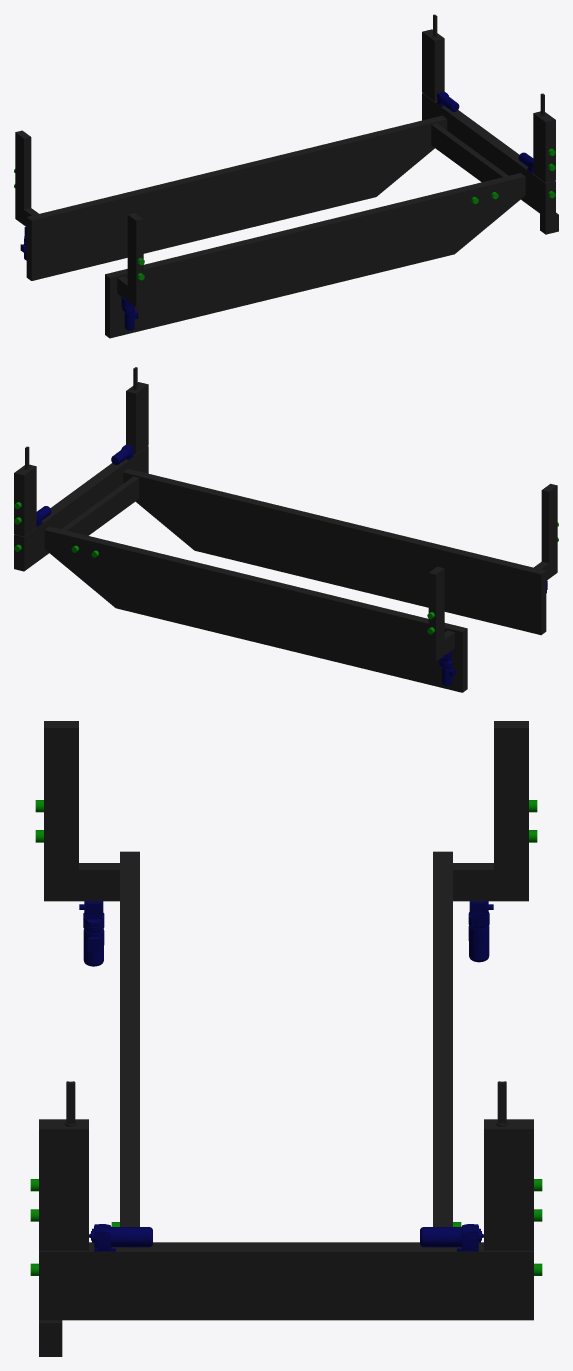
The model's file is LST2-LEFT.obj.
The picture shows the model from 3 angles, top to bottom: view 1: azimuth 30°, elevation 25°; view 2: azimuth 150°, elevation 25°; view 3: azimuth 270°, elevation 25°; orthographic projection. The views are drawn at different scales.
Parts seen in each view (by area): view 1: LST2-LEFT; view 2: LST2-LEFT; view 3: LST2-LEFT.
Boxes of the visible parts, bbox=[...] form: LST2-LEFT: bbox=[14, 14, 558, 338]; LST2-LEFT: bbox=[14, 367, 558, 692]; LST2-LEFT: bbox=[30, 721, 542, 1356].
Size of the model in its own units: 5932 by 1988 by 3065.
